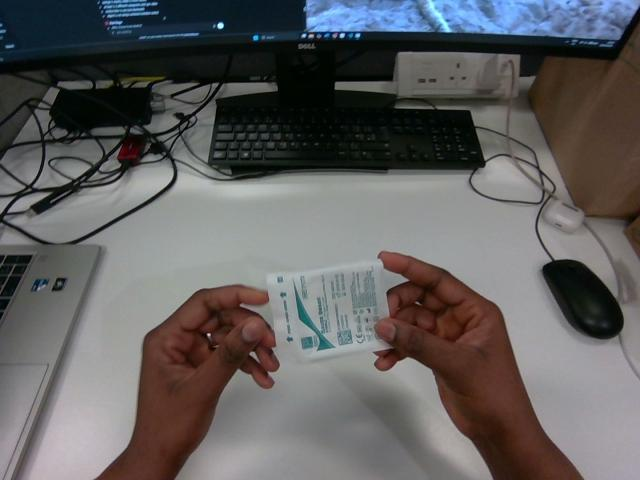gauze: (267, 260, 389, 362)
